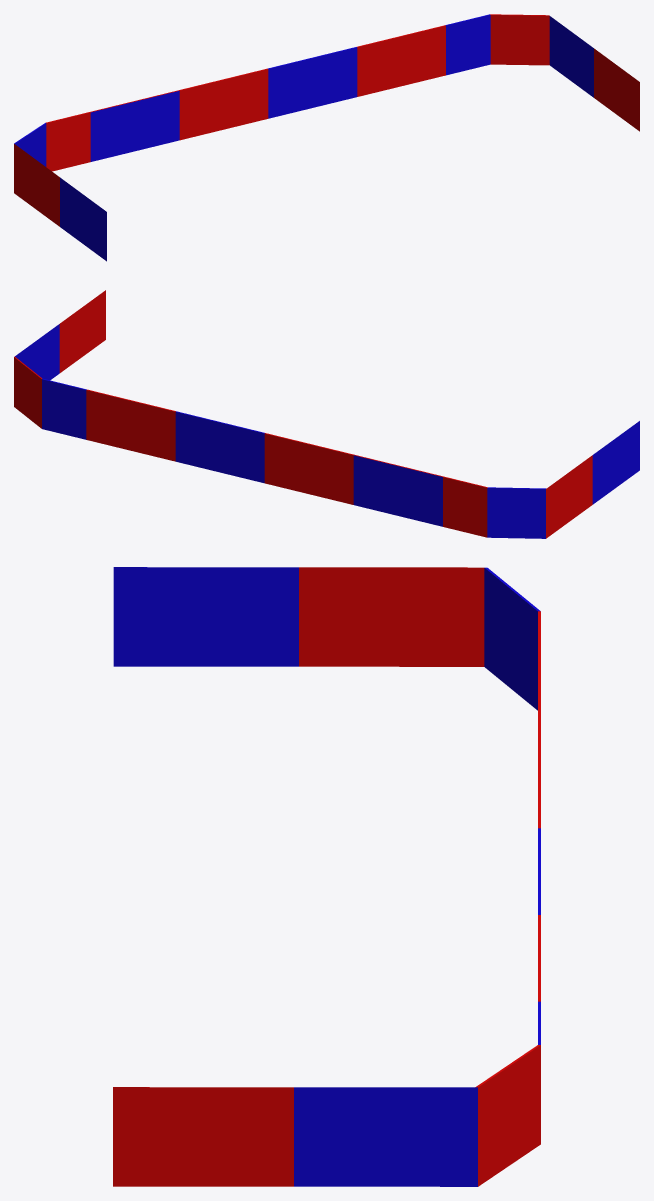
File: Wall3Material.fbx
3 views of the same model, one above another, from view 1: azimuth 30°, elevation 25°; view 2: azimuth 150°, elevation 25°; view 3: azimuth 270°, elevation 25° (orthographic). The views are drawn at different scales.
Visible parts, largest first — view 1: 立方体; view 2: 立方体; view 3: 立方体.
Boxes of the visible parts, left/top/right/bottom form: 立方体: left=14, top=14, right=639, bottom=261; 立方体: left=14, top=290, right=639, bottom=538; 立方体: left=113, top=567, right=540, bottom=1186.
Size of the model in its own units: 79709 by 7101 by 27712.
